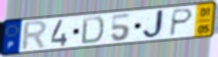4: (50, 18, 69, 48)
5: (110, 12, 131, 43)
D: (80, 15, 106, 45)
J: (142, 9, 168, 41)
P: (167, 7, 195, 37)
R: (20, 19, 50, 52)
